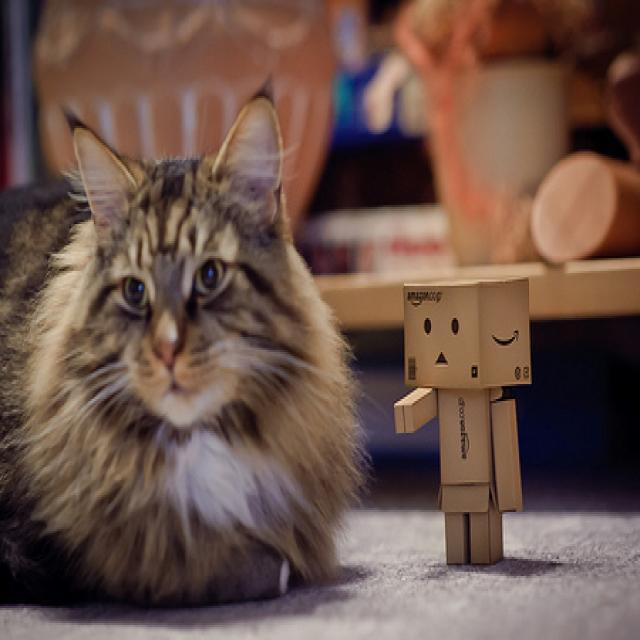Maine Coon: (0, 85, 368, 614)
